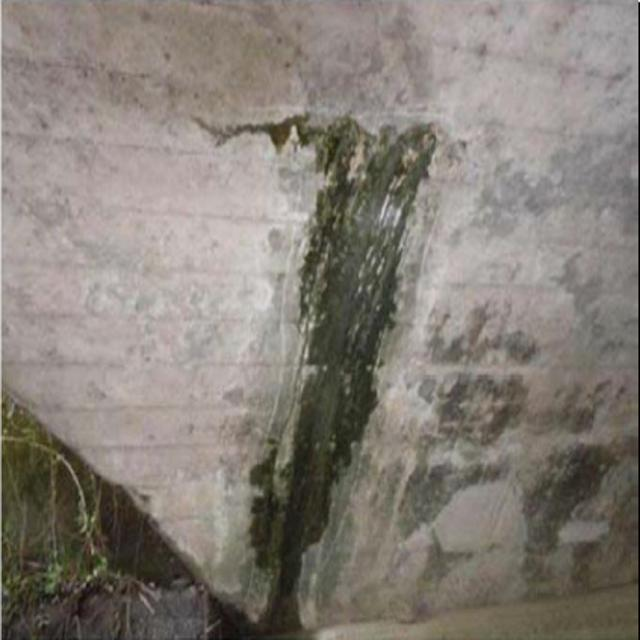leakage: (222, 77, 434, 623)
